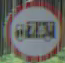Heavy Vehicles: (8, 4, 60, 53)
